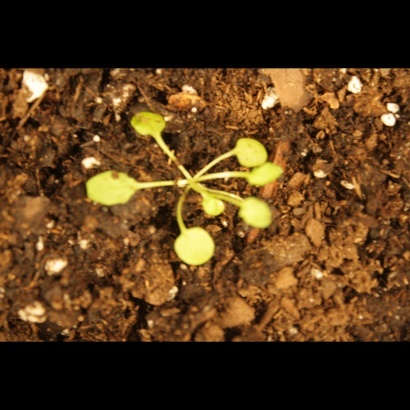leaf: (81, 164, 145, 213), (163, 226, 225, 272), (227, 126, 279, 170), (121, 104, 170, 147), (241, 159, 290, 189), (240, 196, 278, 230), (196, 188, 230, 220)
